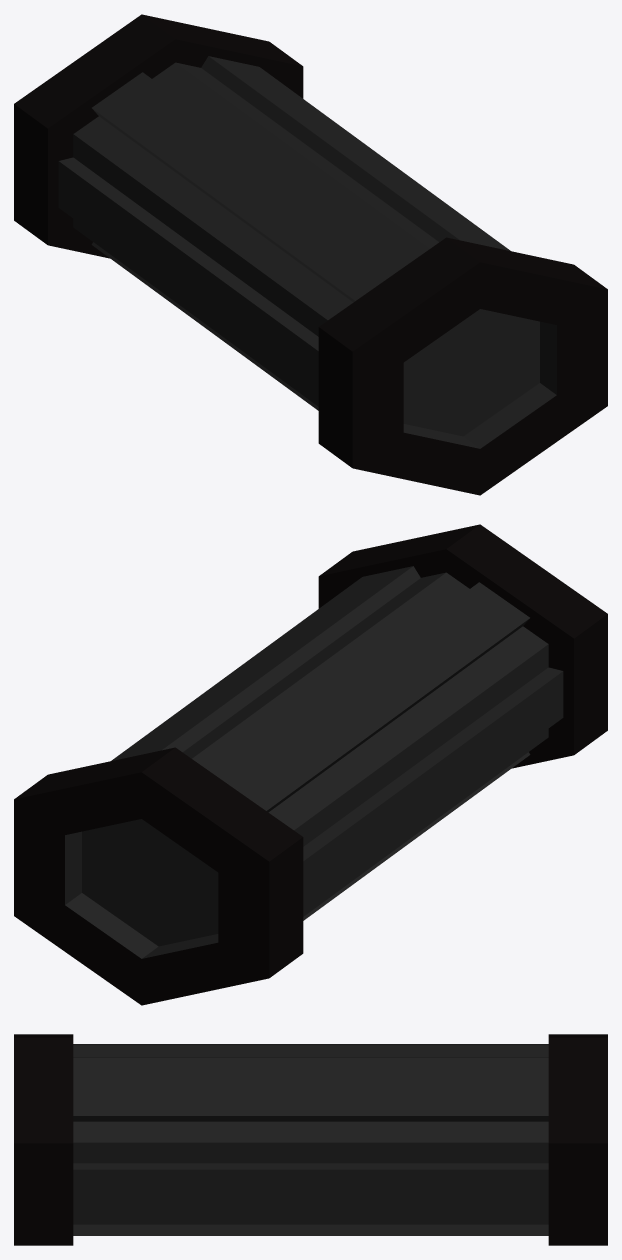
The model's file is semi-auto_shotgun_loader.fbx.
3 renders of one model, top to bottom at view 1: azimuth 30°, elevation 25°; view 2: azimuth 150°, elevation 25°; view 3: azimuth 270°, elevation 25°, orthographic. The views are drawn at different scales.
Visible parts, largest first — view 1: mergedBlocks; view 2: mergedBlocks; view 3: mergedBlocks.
Boxes of the visible parts, bbox=[...] form: mergedBlocks: bbox=[14, 14, 607, 495]; mergedBlocks: bbox=[14, 524, 607, 1005]; mergedBlocks: bbox=[14, 1034, 607, 1245].
Bounding box in the file's own units: 4.12 × 3.59 × 9.45.
1 material, 1 textured.
